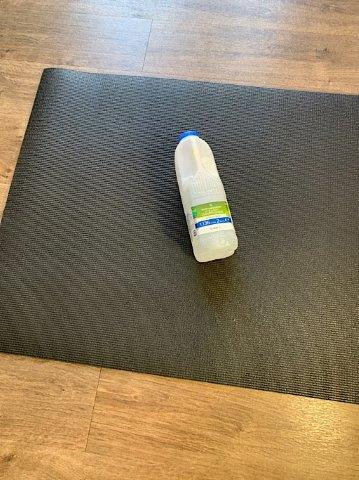botolplastik: (176, 131, 238, 260)
